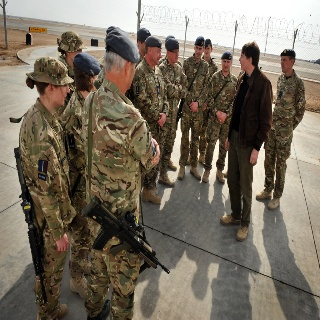rifle: (82, 196, 170, 275), (13, 147, 55, 304)
